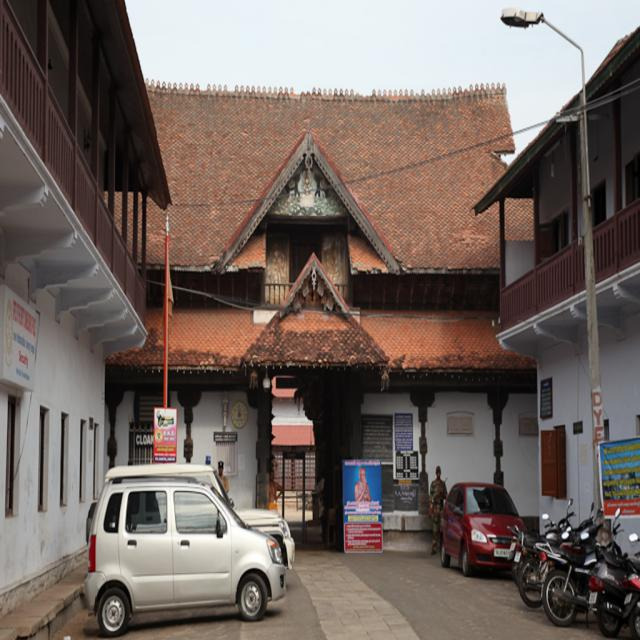Motorbikes: (542, 516, 606, 628), (512, 511, 576, 609), (591, 534, 631, 635)
Passenger Car: (86, 479, 290, 635), (441, 479, 522, 577)
